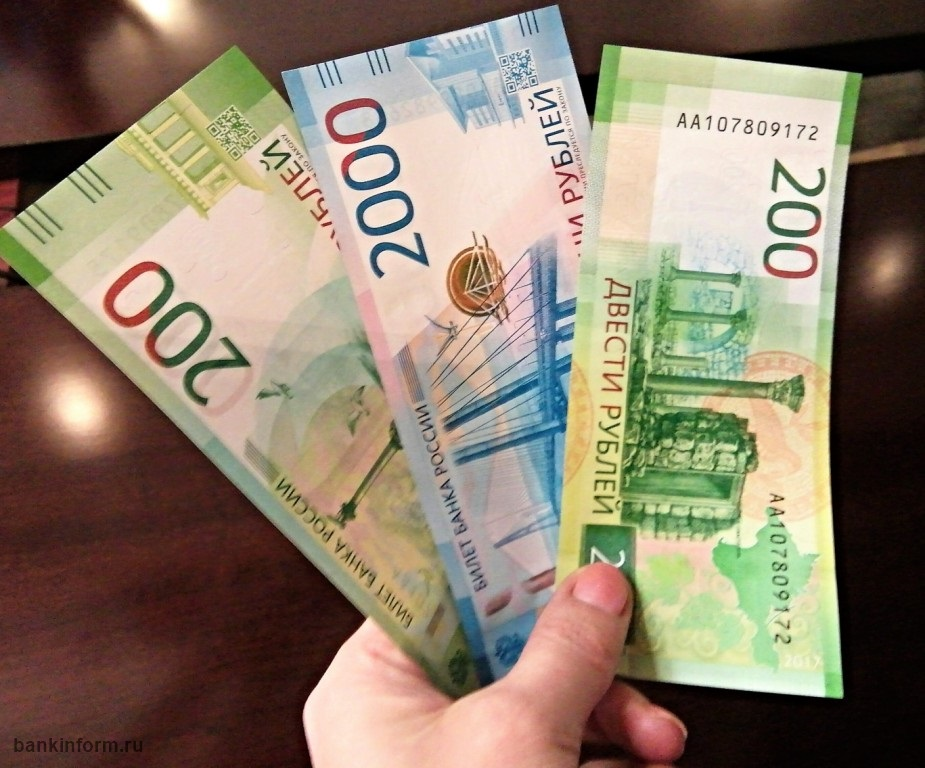cash: (1, 44, 480, 638), (279, 3, 587, 688), (555, 42, 862, 701)
